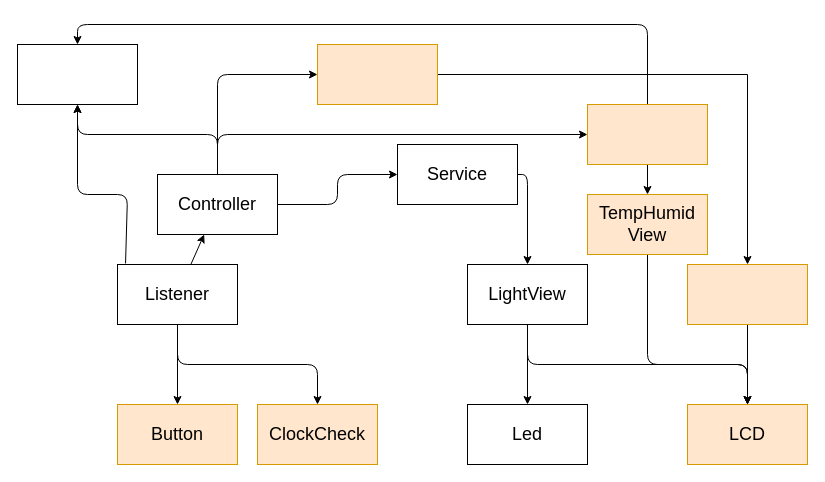
Some shapes in this 825 by 482 pixel diagram are drawn without their labels. Each missing label, with the centre of its shape:
Clock Service: the point at 377,74
ClockView: the point at 747,294
DHT_Data: the point at 77,74
TmepHumid Service: the point at 647,134
